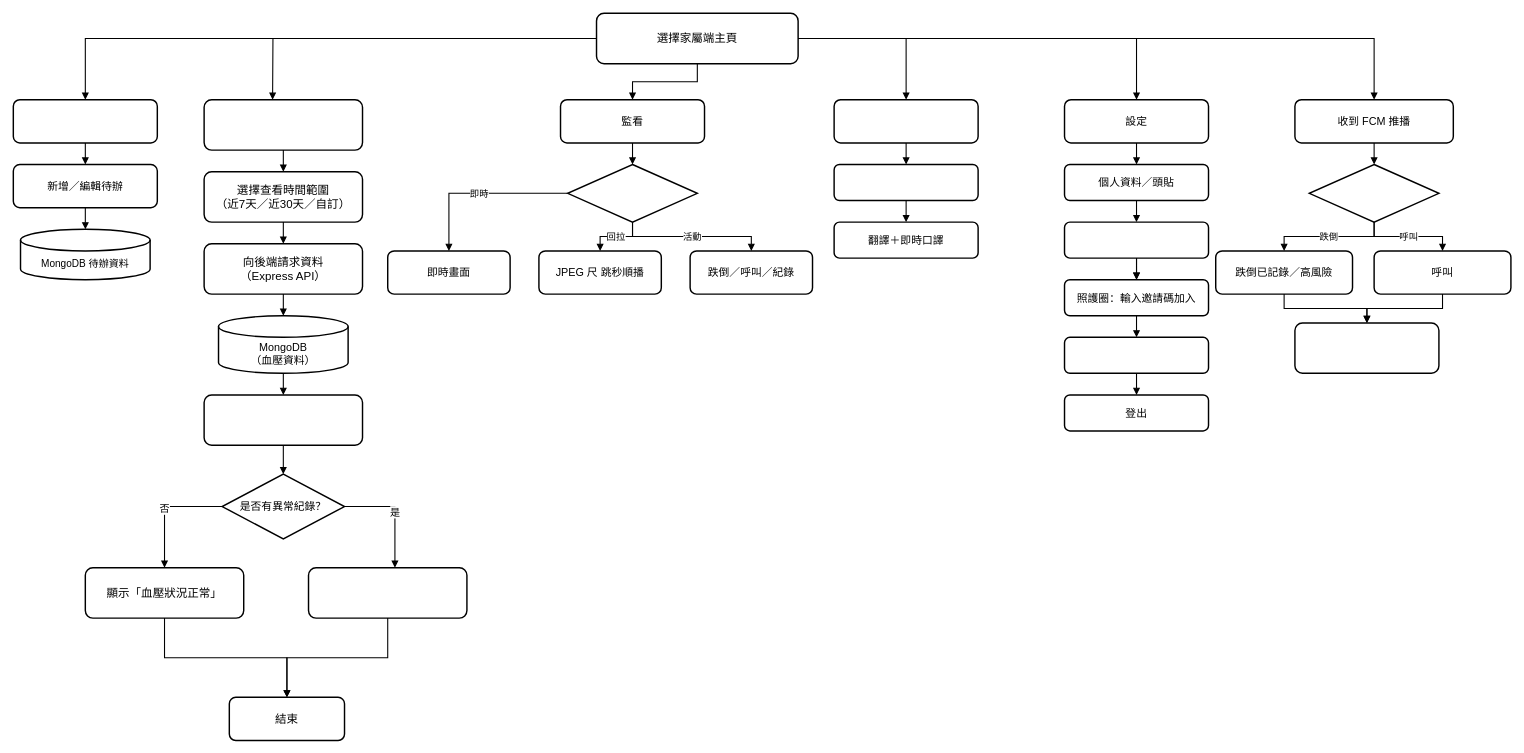
This 1524x753 diagram has some shape labels left out. The shapes that lost their labels are listed below. From the top down, each one's box as (x1, y1, x2, y2) in pixels, then its label:
(12, 99, 158, 143): 待辦
(203, 99, 363, 150): 查看血壓紀錄
(833, 99, 978, 143): 訊息
(567, 163, 698, 222): 即時/回拉/活動
(833, 163, 978, 201): 與長輩／看護聊天
(1308, 163, 1439, 222): 種類
(1063, 221, 1209, 258): 切換目前長輩
(1063, 336, 1209, 374): 設定介面六語言
(1294, 322, 1439, 374): 打開監看時間影像
(203, 394, 363, 446): 顯示血壓趨勢圖與紀錄
(307, 567, 467, 618): 顯示異常紀錄 並提供建議
